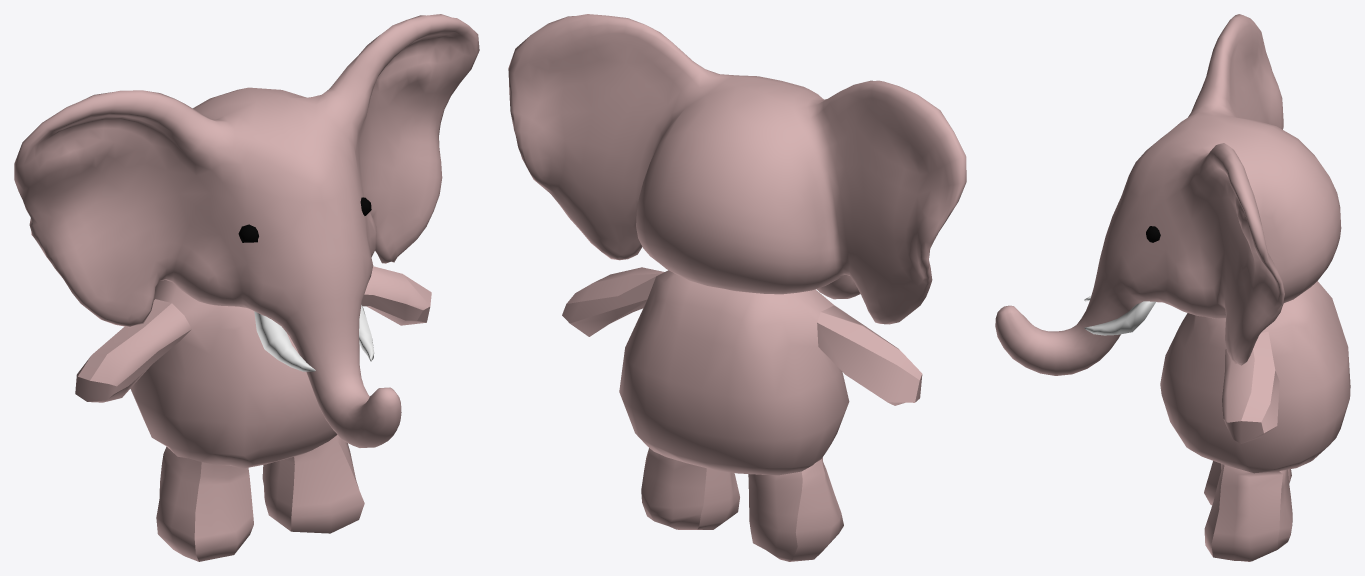
Rendered from Elephant_LowPoly.fbx.
3 views of the same model, side by side, from view 1: azimuth 30°, elevation 25°; view 2: azimuth 150°, elevation 25°; view 3: azimuth 270°, elevation 25° (orthographic). The views are drawn at different scales.
Visible parts, largest first — view 1: Elephant_LowPoly; view 2: Elephant_LowPoly; view 3: Elephant_LowPoly.
Boxes of the visible parts, left/top/right/bottom form: Elephant_LowPoly: left=14, top=14, right=479, bottom=561; Elephant_LowPoly: left=508, top=14, right=966, bottom=561; Elephant_LowPoly: left=995, top=14, right=1350, bottom=561.
Size of the model in its own units: 31.72 by 31.91 by 23.38.
